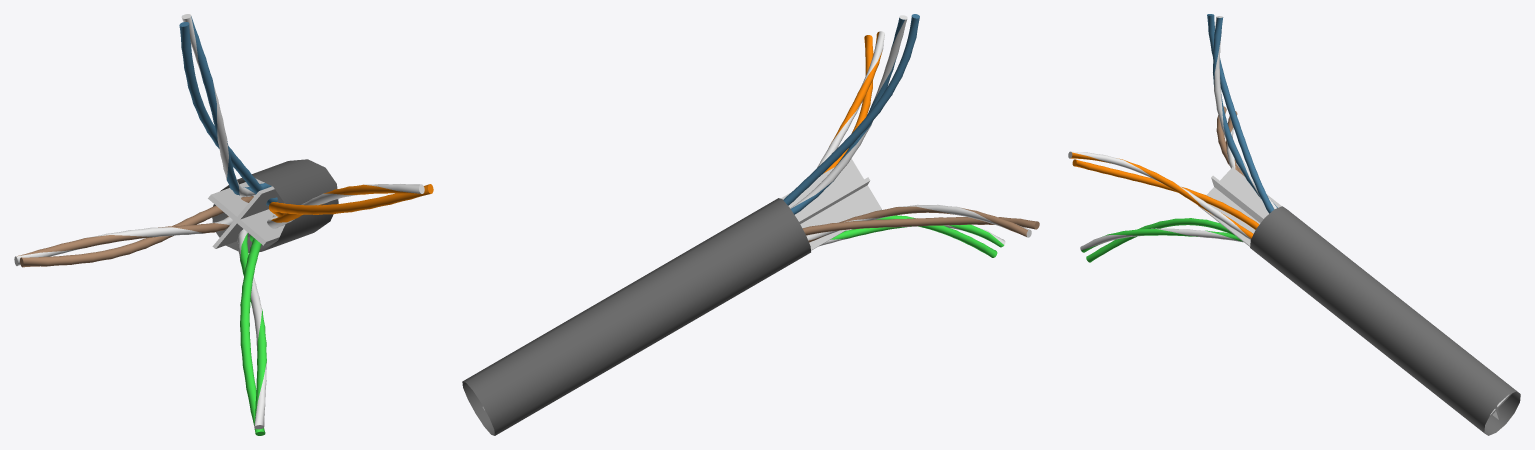
The model's file is Cable.glb.
3 views of the same model, side by side, from view 1: azimuth 30°, elevation 25°; view 2: azimuth 150°, elevation 25°; view 3: azimuth 270°, elevation 25° (orthographic). The views are drawn at different scales.
Parts seen in each view (by area): view 1: OuterCoat, Cube.031, Wire1, Wire1.004, Wire1.005, Wire1.003, Wire1.006, Wire1.001, Wire1.002, Wire1.007; view 2: OuterCoat, Cube.031, Wire1.001, Wire1.005, Wire1, Wire1.004, Wire1.007, Wire1.006, Wire1.003, Wire1.002; view 3: OuterCoat, Cube.031, Wire1.007, Wire1.004, Wire1.001, Wire1.002, Wire1.006, Wire1.003.
Part boxes in pixels (x1,y1,x2,y2): OuterCoat: [212, 159, 338, 252]; Cube.031: [208, 178, 284, 248]; Wire1: [14, 216, 233, 265]; Wire1.004: [181, 14, 271, 196]; Wire1.005: [20, 196, 253, 267]; Wire1.003: [240, 235, 265, 435]; Wire1.006: [237, 229, 266, 429]; Wire1.001: [179, 22, 277, 205]; Wire1.002: [269, 184, 433, 216]; Wire1.007: [267, 184, 424, 228]; OuterCoat: [462, 198, 810, 435]; Cube.031: [482, 158, 881, 410]; Wire1.001: [783, 14, 919, 205]; Wire1.005: [802, 217, 1039, 235]; Wire1: [806, 204, 1031, 242]; Wire1.004: [790, 15, 907, 214]; Wire1.007: [817, 31, 884, 167]; Wire1.006: [819, 224, 1005, 247]; Wire1.003: [876, 215, 997, 257]; Wire1.002: [823, 35, 873, 173]; OuterCoat: [1250, 206, 1520, 435]; Cube.031: [1198, 167, 1511, 419]; Wire1.007: [1068, 151, 1253, 239]; Wire1.004: [1213, 16, 1277, 209]; Wire1.001: [1207, 14, 1274, 213]; Wire1.002: [1072, 159, 1259, 229]; Wire1.006: [1080, 228, 1243, 252]; Wire1.003: [1086, 218, 1236, 262].
Bounding box in the file's own units: 0.0359 × 0.0296 × 0.039.
